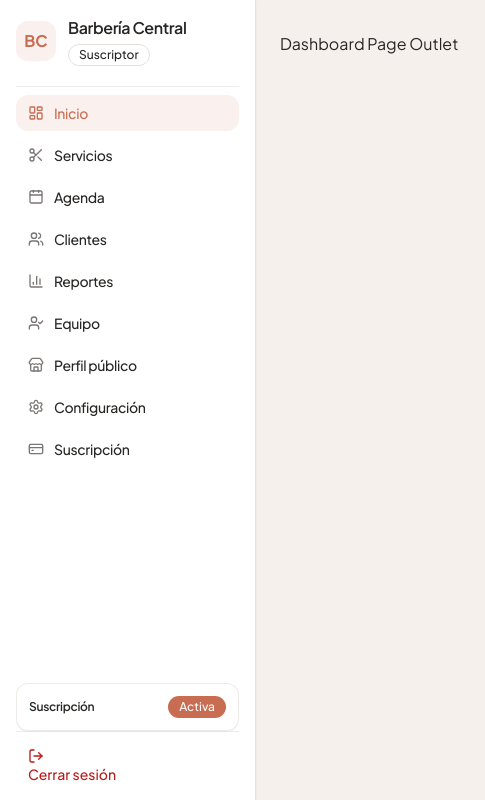
Test case: BusinessSidebar (KAN-29, KAN-39, KAN-42) › KAN-29: AC-KAN-29-04 navigates to services catalog when clicking available tool
The image size is (485, 800).
Click the button "Servicios" at (128, 155), box [16,137,239,173]
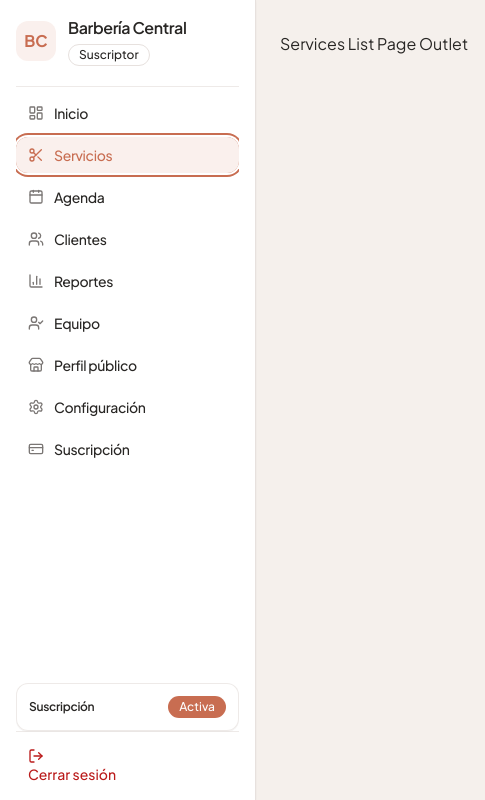
Result: the text "Services List Page Outlet" is shown at [280,33,468,54]
